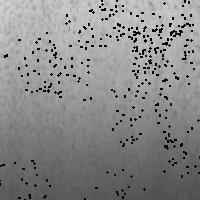pitted_surface: (1, 1, 199, 199), (134, 23, 193, 83), (111, 88, 170, 147), (32, 44, 91, 99), (4, 32, 59, 91), (132, 14, 186, 72), (131, 27, 184, 85), (65, 0, 122, 45), (144, 0, 200, 42), (163, 116, 200, 175), (91, 0, 146, 36), (0, 160, 49, 200), (84, 169, 143, 200)
